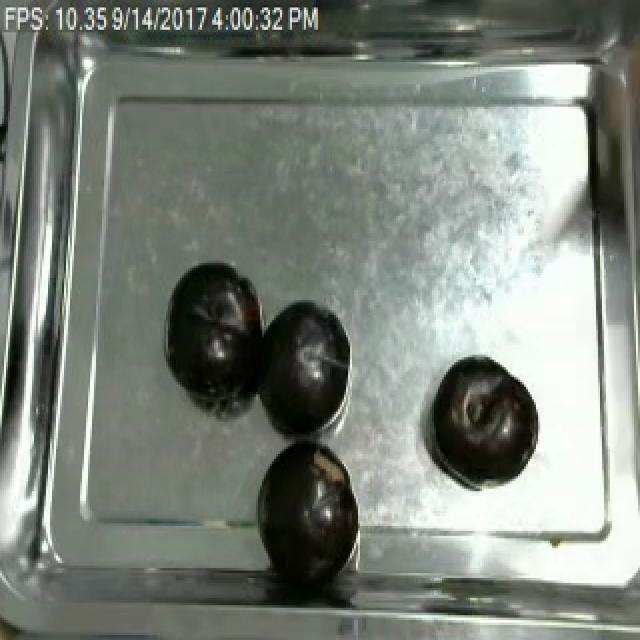Fruit: (250, 439, 364, 578), (426, 352, 540, 489), (160, 255, 262, 402), (246, 295, 348, 442)
